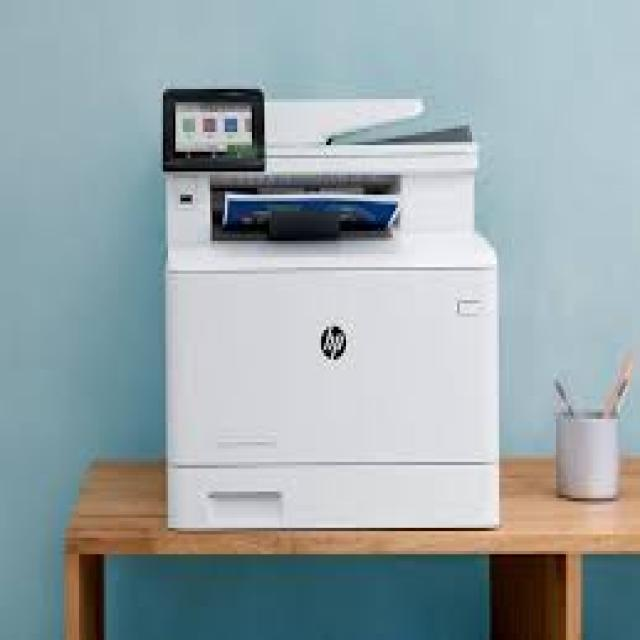printer: (161, 86, 499, 531)
